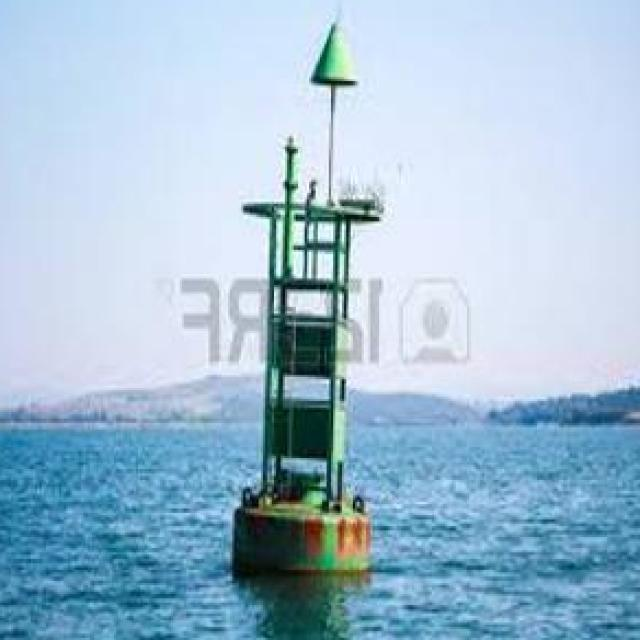buoy: (213, 20, 402, 575)
